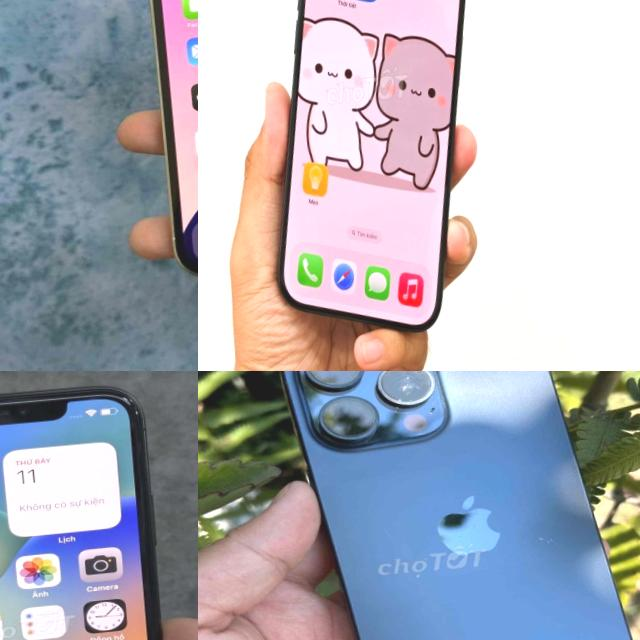scratch: (379, 371, 444, 413), (529, 522, 580, 560)
